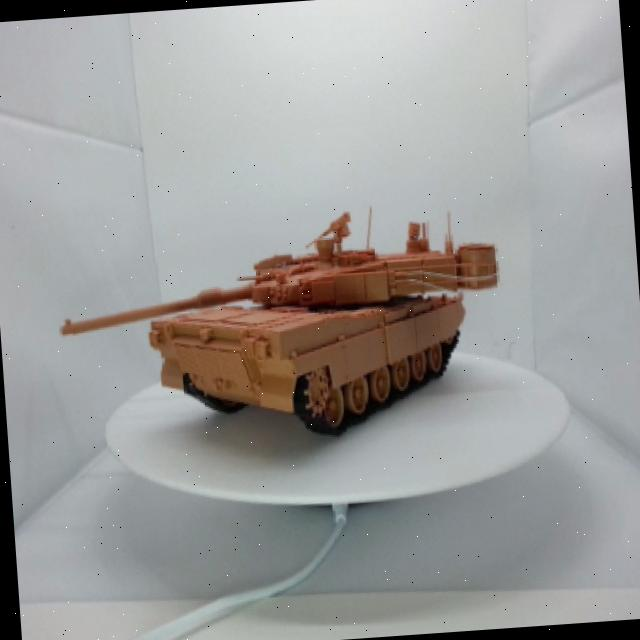korea tank: (33, 183, 525, 464)
